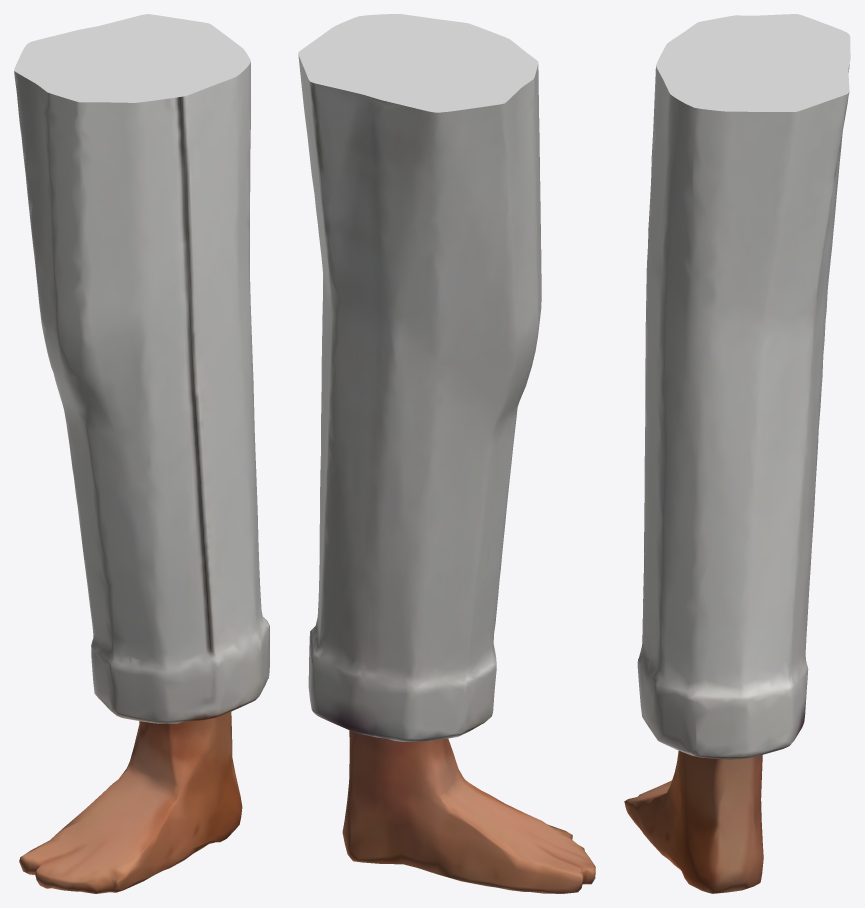
The model's file is left_Leg.obj.
3 views of the same model, side by side, from view 1: azimuth 30°, elevation 25°; view 2: azimuth 150°, elevation 25°; view 3: azimuth 270°, elevation 25° (orthographic). The views are drawn at different scales.
Parts seen in each view (by area): view 1: Left_Leg_and_Foot; view 2: Left_Leg_and_Foot; view 3: Left_Leg_and_Foot.
Part boxes in pixels (x1,y1,x2,y2): Left_Leg_and_Foot: (14, 14, 269, 893); Left_Leg_and_Foot: (298, 14, 595, 893); Left_Leg_and_Foot: (624, 14, 850, 893).
Size of the model in its own units: 0.0268 by 0.0815 by 0.021.
Materials: 1 (1 with a texture image).
